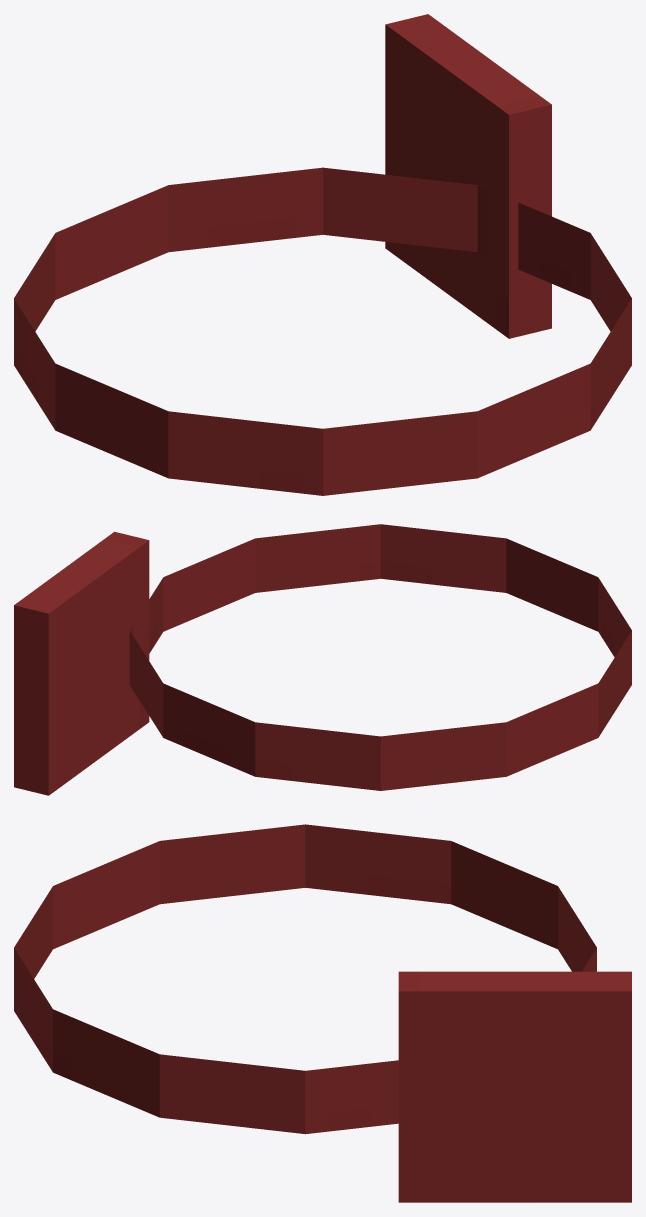
Rendered from acc_headband.glb.
3 views of the same model, one above another, from view 1: azimuth 30°, elevation 25°; view 2: azimuth 150°, elevation 25°; view 3: azimuth 270°, elevation 25° (orthographic). The views are drawn at different scales.
Visible parts, largest first — view 1: acc_headband; view 2: acc_headband; view 3: acc_headband.
Part boxes in pixels (<box>): acc_headband: <box>14,14,631,495</box>; acc_headband: <box>14,524,631,795</box>; acc_headband: <box>14,824,631,1202</box>.
Bounding box in the file's own units: 0.255 × 0.1 × 0.265.
1 material, 1 textured.
